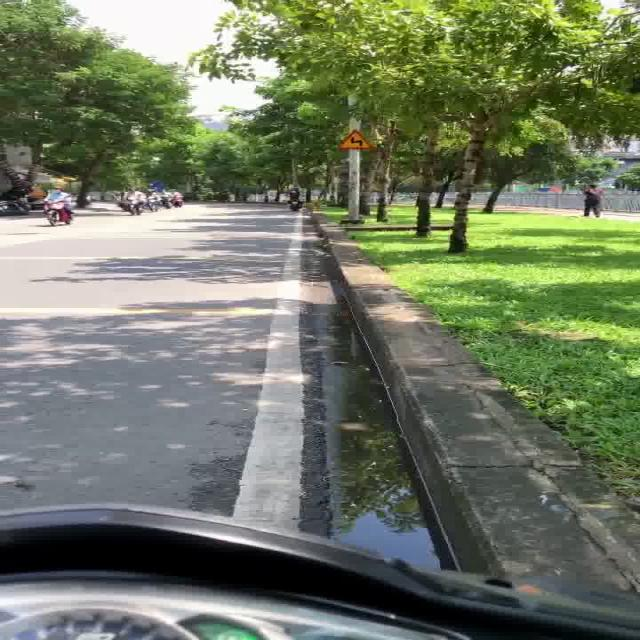Bien bao nhieu cho ngoat nguy hiem lien tiep: (331, 126, 380, 150)
